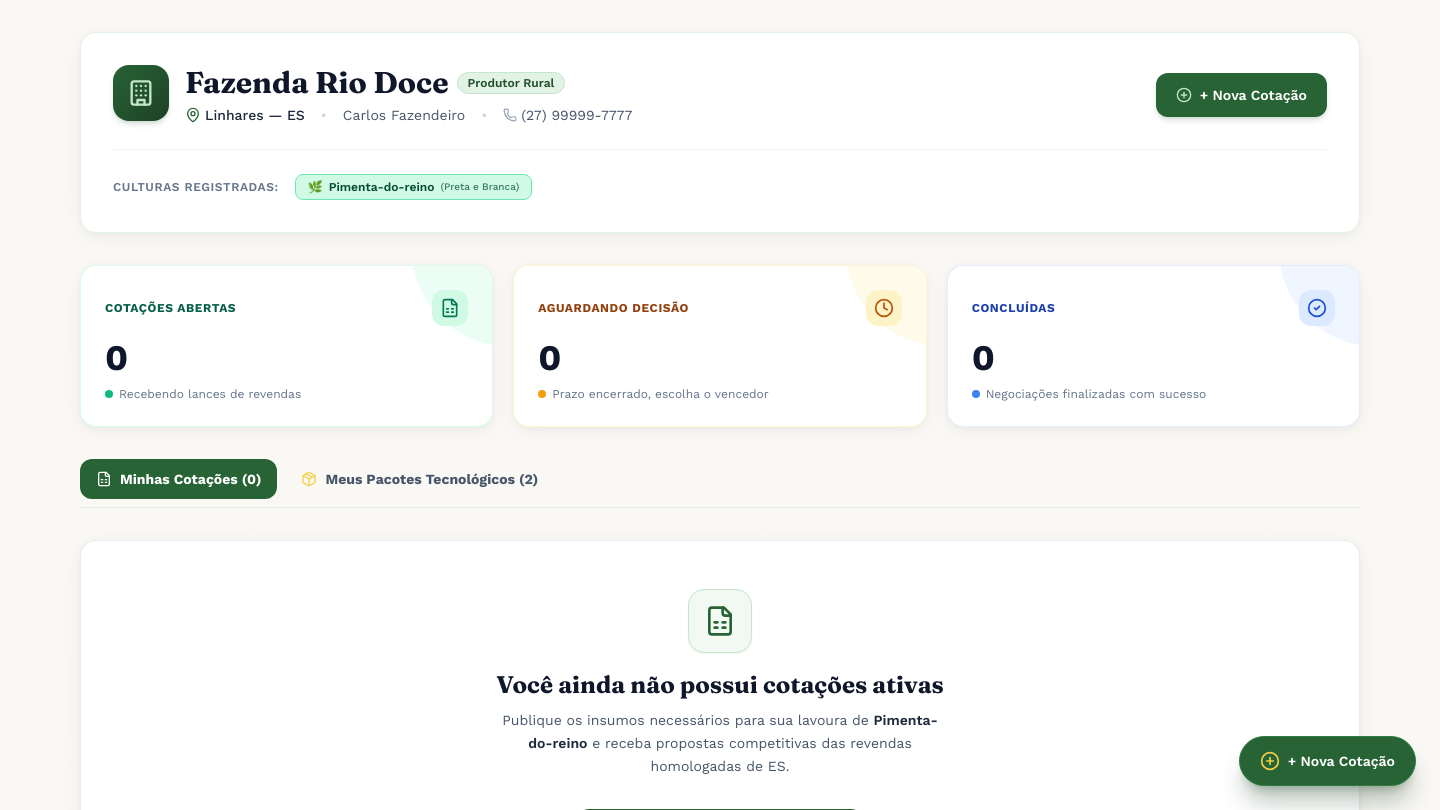
it: US17 – Meus Pacotes Tecnológicos no Dashboard do Produtor › ao clicar na aba de pacotes, renderiza os cards com insumos e botão de recompra em 1-clique
This screenshot has width=1440, height=810.
Click the button with test id "tab-my-packages": point(420, 479) [285,459,554,499]
(page scrolled)
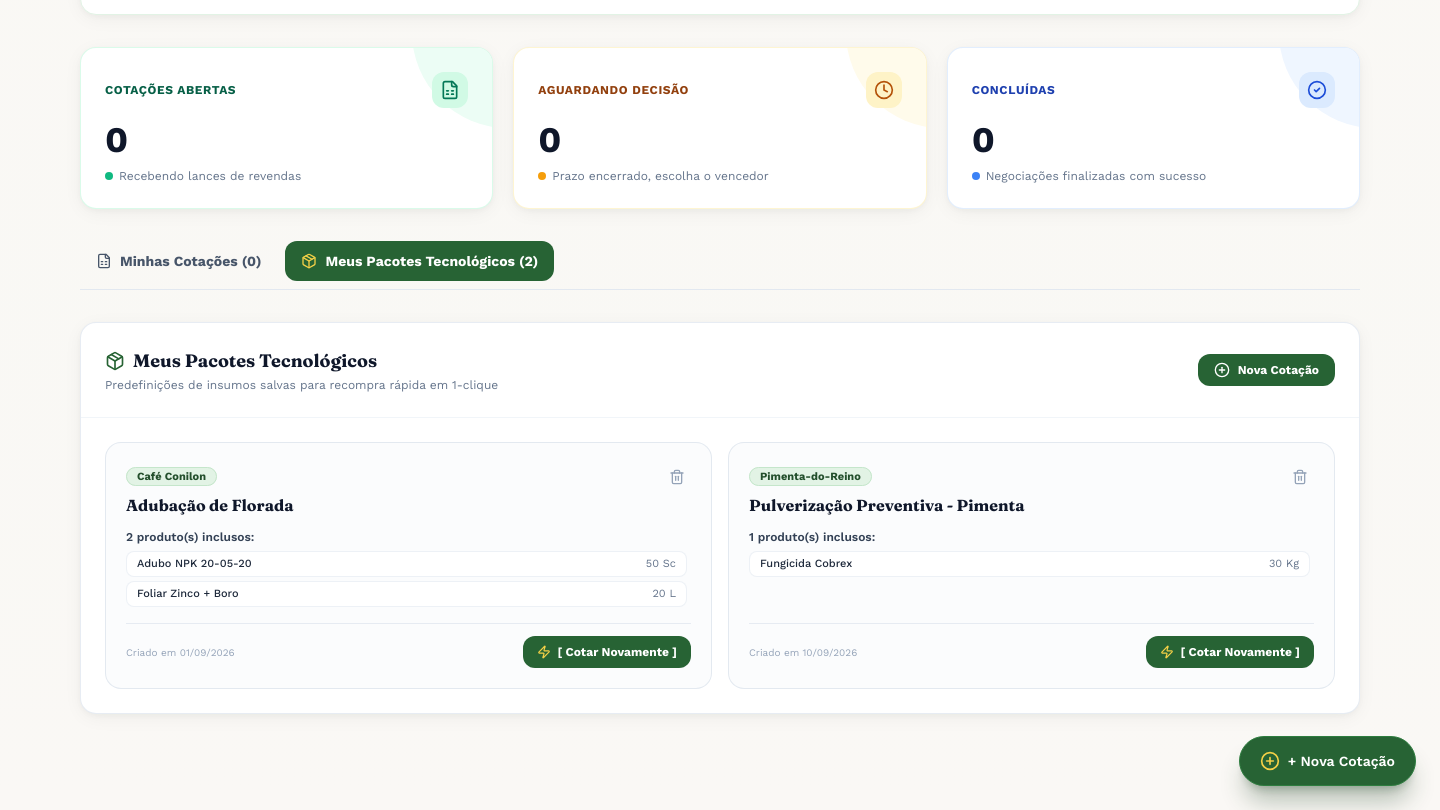
Expected: the element with test id "packages-section" is shown, [80,322,1360,714]
Expected: the heading "Adubação de Florada" is shown, [126,493,294,517]
Expected: the heading "Pulverização Preventiva - Pimenta" is shown, [749,493,1024,517]
